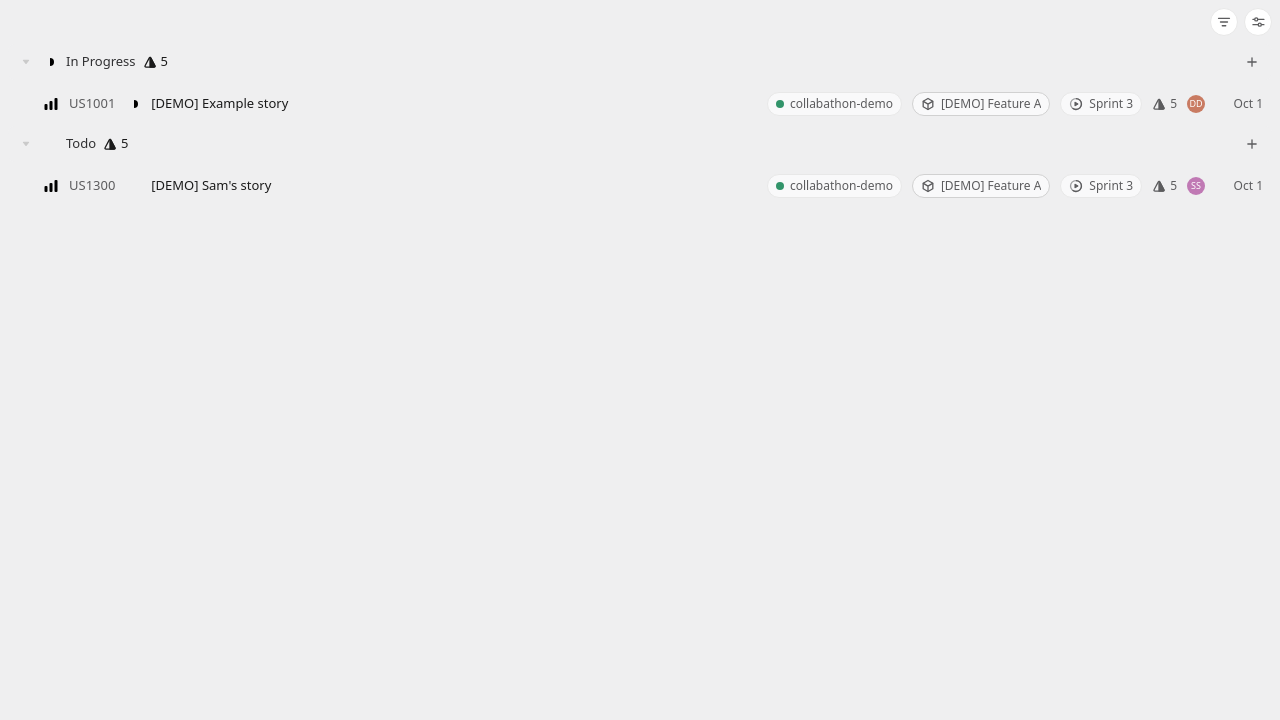
Test: Rally's words › the Display menu, in both layouts and its grouping and ordering lists
Click the button named "Display options" at [1258, 22], box x1=1244 y1=8 x2=1272 y2=36
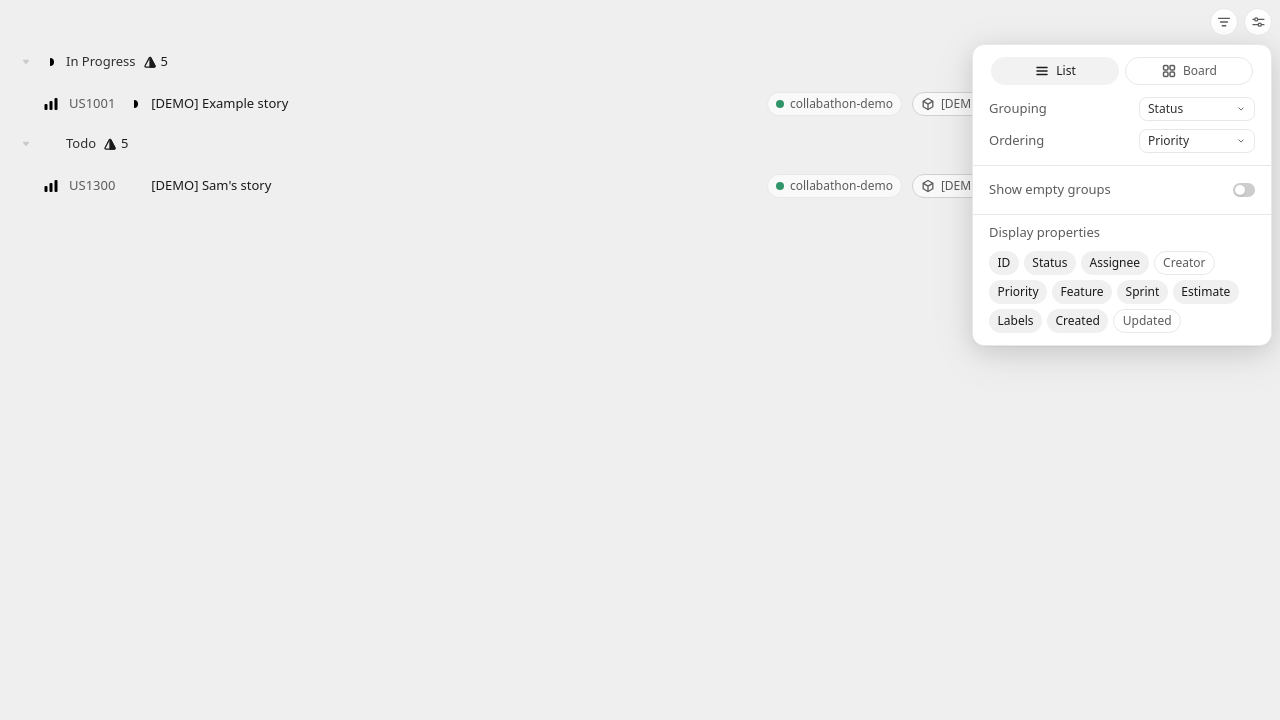
Expected: the button "Feature" is shown, x1=1052 y1=280 x2=1112 y2=304
Click the button with aria-label "Grouping: Status" at [1197, 109], box x1=1139 y1=97 x2=1255 y2=121
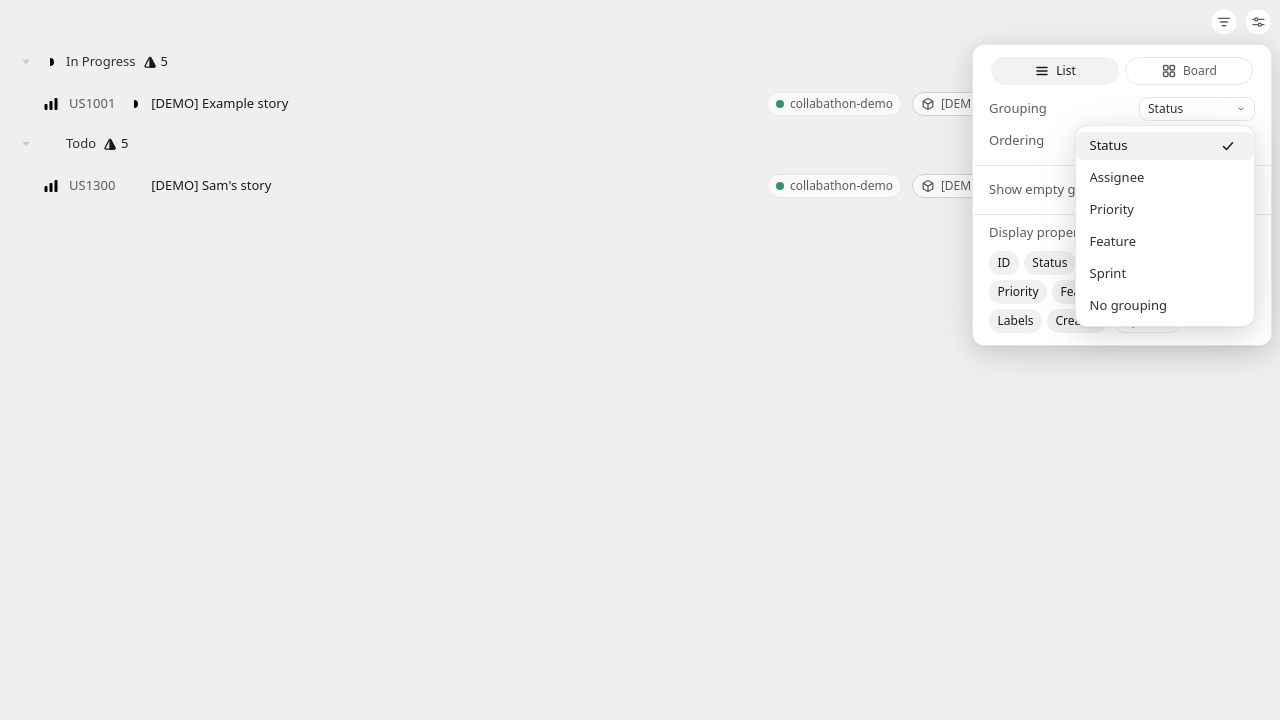
Expected: the menu item "Feature" is shown, x1=1090 y1=232 x2=1136 y2=250
Expected: the menu item "Sprint" is shown, x1=1090 y1=264 x2=1126 y2=282
